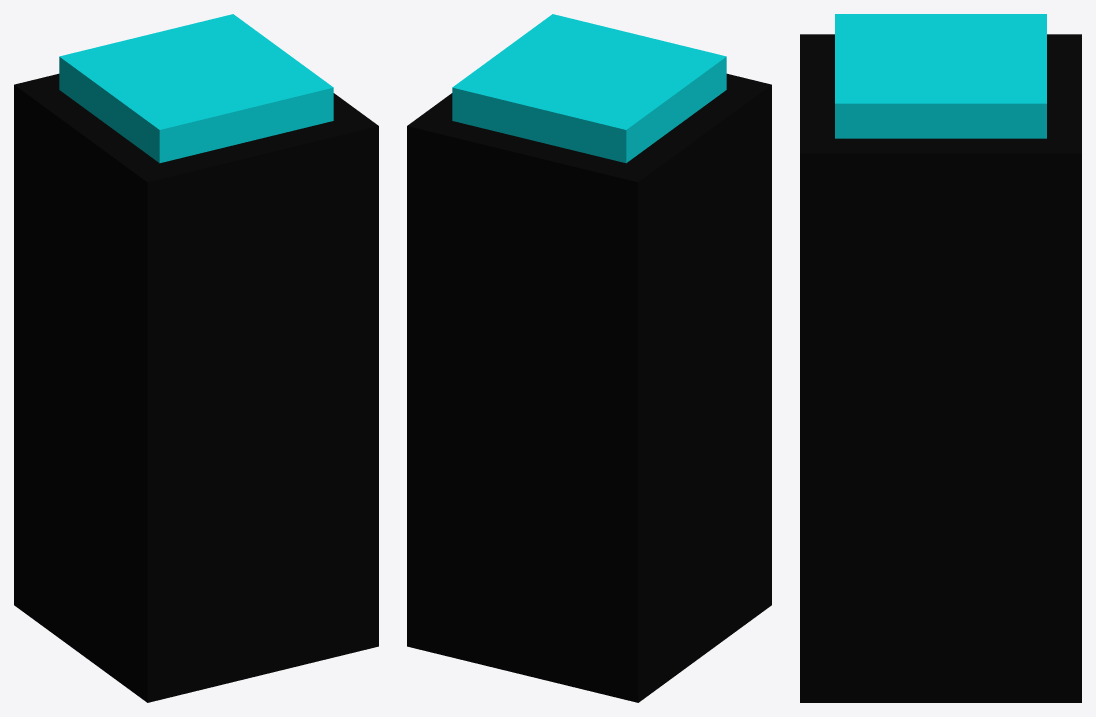
The model's file is Button.fbx.
The picture shows the model from 3 angles, left to right: view 1: azimuth 30°, elevation 25°; view 2: azimuth 150°, elevation 25°; view 3: azimuth 270°, elevation 25°; orthographic projection. The views are drawn at different scales.
Parts seen in each view (by area): view 1: ButtonHolder, Button; view 2: ButtonHolder, Button; view 3: ButtonHolder, Button.
Part boxes in pixels (box(x1,y1,x2,y2)): ButtonHolder: box(14, 73, 378, 702); Button: box(59, 14, 333, 163); ButtonHolder: box(407, 73, 771, 702); Button: box(452, 14, 726, 163); ButtonHolder: box(800, 34, 1081, 702); Button: box(835, 14, 1046, 138).
Bounding box in the file's own units: 99.99 × 99.99 × 229.
